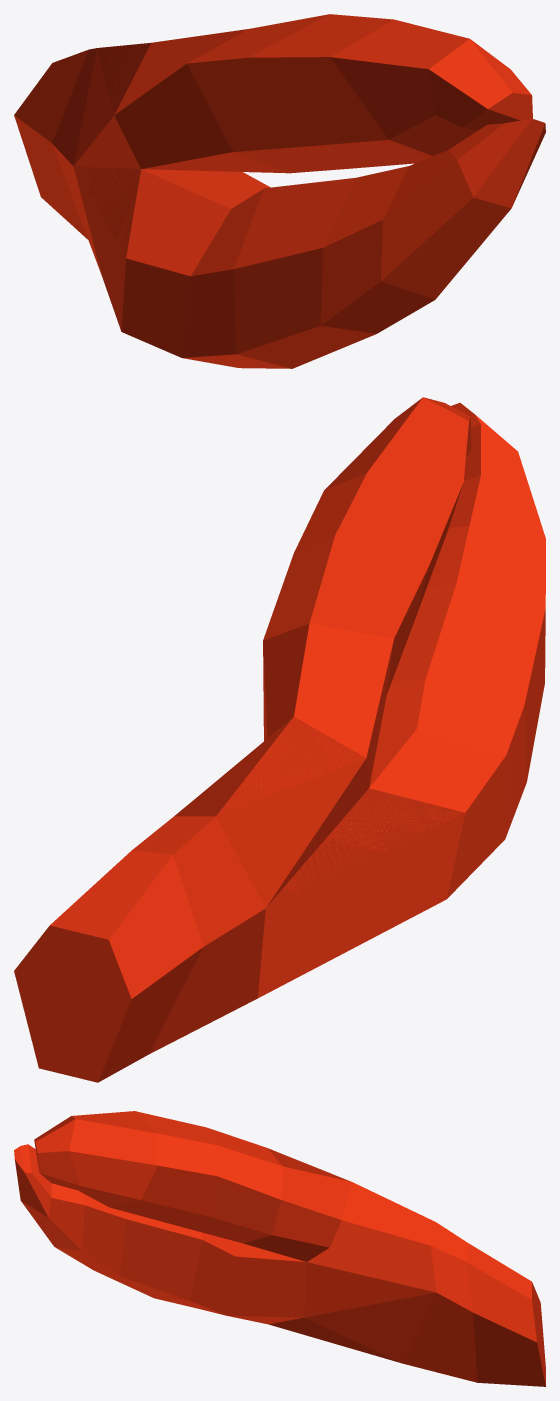
Rendered from LobsterClawR.fbx.
3 views of the same model, one above another, from view 1: azimuth 30°, elevation 25°; view 2: azimuth 150°, elevation 25°; view 3: azimuth 270°, elevation 25° (orthographic). The views are drawn at different scales.
Visible parts, largest first — view 1: Lobster; view 2: Lobster; view 3: Lobster.
Part boxes in pixels (x1=…): Lobster: x1=14, y1=14, x2=545, y2=368; Lobster: x1=14, y1=397, x2=545, y2=1082; Lobster: x1=14, y1=1111, x2=545, y2=1386.
Size of the model in its own units: 14.31 by 24.33 by 43.77.
